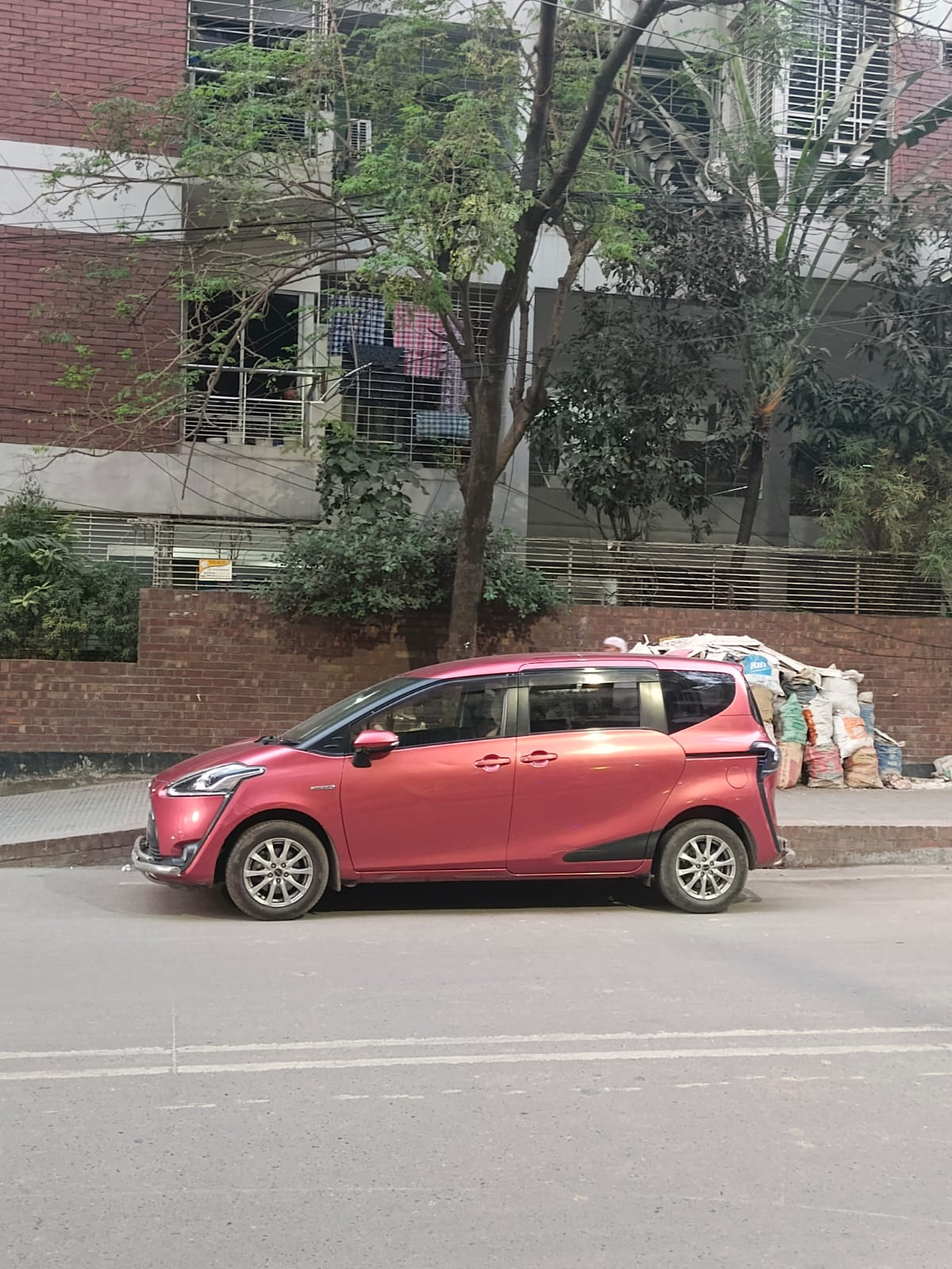private car: (106, 651, 952, 950)
